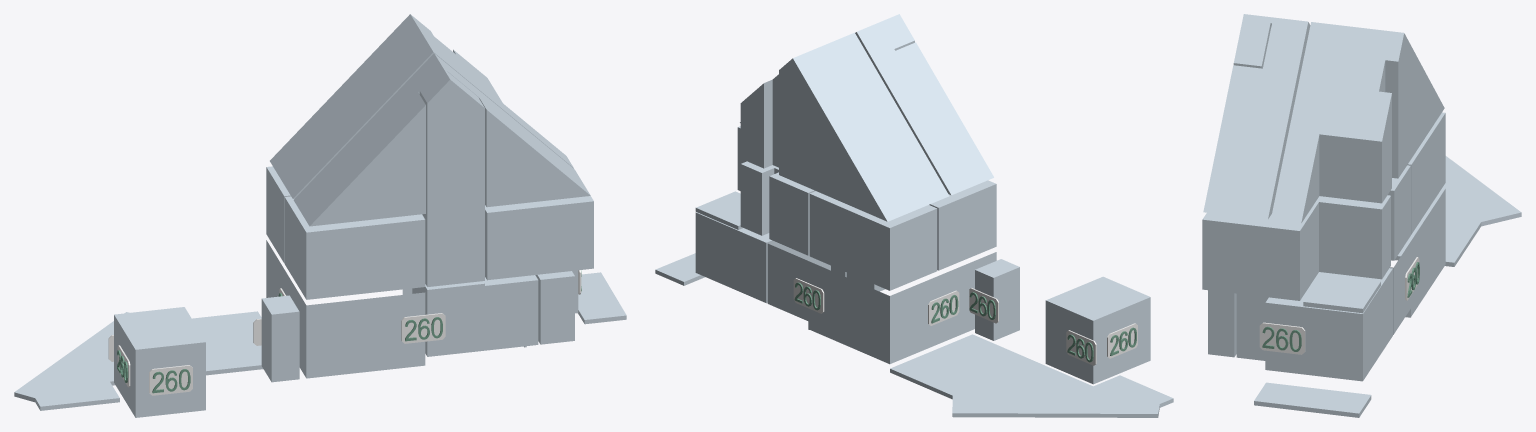
The picture shows the model from 3 angles, left to right: view 1: azimuth 30°, elevation 25°; view 2: azimuth 150°, elevation 25°; view 3: azimuth 270°, elevation 25°; orthographic projection. The views are drawn at different scales.
Visible parts, largest first — view 1: g_7, g_6, g_9, g_1, g_16, g_14, g_8, g_2, g_5, g_13, g_4, g_3 (+4 smaller); view 2: g_6, g_16, g_1, g_10, g_7, g_5, g_0, g_9, g_12, g_4, g_14, g_17 (+7 smaller); view 3: g_6, g_14, g_7, g_0, g_16, g_1, g_15, g_10, g_17, g_3, g_2, g_8 (+2 smaller).
Boxes of the visible parts, box(x1,y1,x2,y2) form: g_7: box(293, 53, 590, 226); g_6: box(270, 14, 573, 198); g_9: box(284, 196, 425, 299); g_1: box(266, 240, 425, 378); g_16: box(14, 311, 263, 410); g_14: box(485, 196, 593, 280); g_8: box(419, 67, 484, 213); g_2: box(412, 275, 538, 356); g_5: box(114, 307, 205, 417); g_13: box(422, 208, 484, 286); g_4: box(261, 295, 299, 382); g_3: box(535, 271, 574, 344); g_6: box(740, 32, 949, 221); g_16: box(890, 334, 1173, 417); g_1: box(767, 243, 996, 364); g_10: box(809, 191, 937, 290); g_7: box(855, 22, 993, 195); g_5: box(1045, 276, 1150, 384); g_0: box(695, 212, 830, 303); g_9: box(929, 180, 996, 270); g_12: box(769, 172, 815, 255); g_4: box(975, 259, 1019, 340); g_14: box(737, 126, 778, 235); g_17: box(695, 191, 742, 229); g_6: box(1270, 22, 1444, 223); g_14: box(1202, 195, 1390, 300); g_7: box(1203, 17, 1310, 219); g_0: box(1265, 268, 1392, 381); g_16: box(1395, 156, 1521, 266); g_1: box(1390, 189, 1445, 334); g_15: box(1254, 382, 1371, 417); g_10: box(1407, 112, 1445, 234); g_17: box(1303, 274, 1380, 313); g_3: box(1208, 290, 1236, 357); g_2: box(1236, 293, 1268, 360); g_8: box(1233, 14, 1274, 68).
Size of the model in its own units: 20.97 by 10.25 by 9.91.
